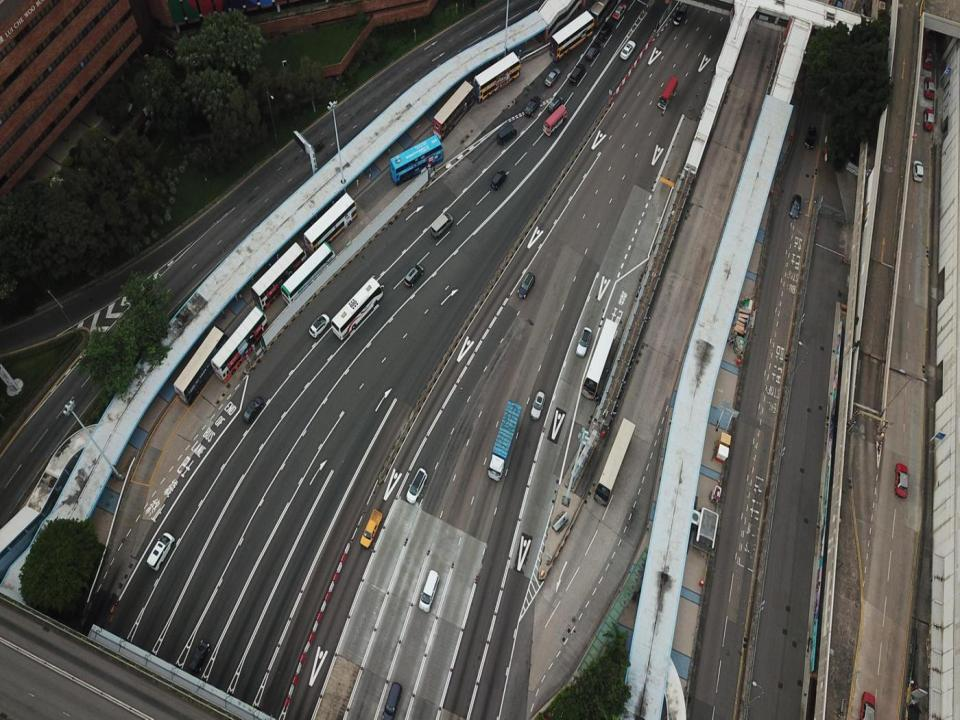bus: (210, 304, 270, 383), (174, 325, 230, 406), (251, 242, 308, 310), (593, 417, 636, 505), (280, 240, 336, 306), (331, 275, 385, 340), (302, 193, 358, 255), (581, 317, 618, 400), (389, 134, 443, 185), (433, 80, 474, 142), (473, 51, 520, 103), (549, 10, 594, 61), (542, 104, 567, 136), (589, 0, 615, 27), (657, 76, 677, 108)
car: (308, 313, 330, 338), (242, 396, 263, 422), (894, 462, 908, 498), (576, 327, 592, 356), (858, 692, 875, 719), (524, 96, 541, 116), (620, 40, 636, 60), (788, 194, 801, 218), (544, 68, 561, 86), (804, 125, 817, 148), (923, 108, 935, 132), (911, 160, 923, 182), (922, 48, 934, 70), (612, 2, 626, 20), (586, 42, 600, 60), (924, 76, 934, 100), (925, 16, 935, 38), (833, 0, 842, 17)
truck: (487, 400, 521, 482), (360, 509, 382, 547)
van: (147, 532, 175, 571), (419, 570, 440, 612), (382, 682, 402, 719), (407, 467, 427, 503), (189, 640, 209, 672), (430, 213, 452, 237), (517, 272, 536, 298), (403, 264, 423, 287), (531, 391, 546, 420), (496, 124, 517, 144), (569, 63, 585, 85), (673, 3, 687, 26), (491, 170, 506, 190), (548, 96, 564, 112), (599, 23, 613, 40)
